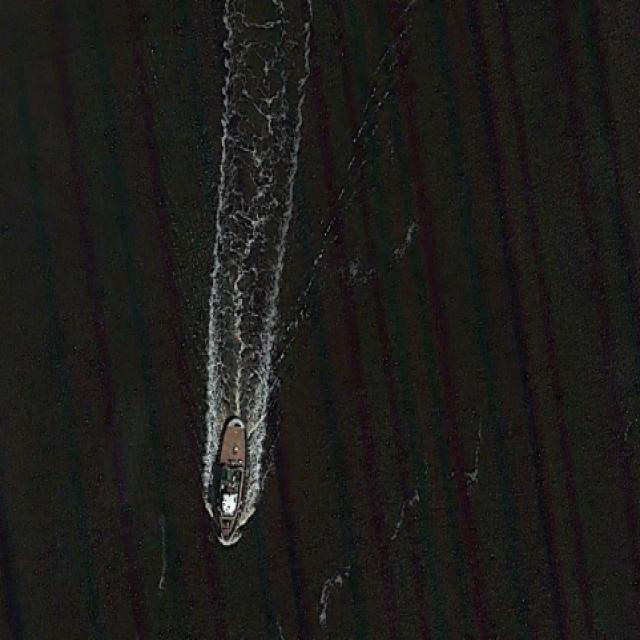Hovercraft: (209, 413, 254, 540)
